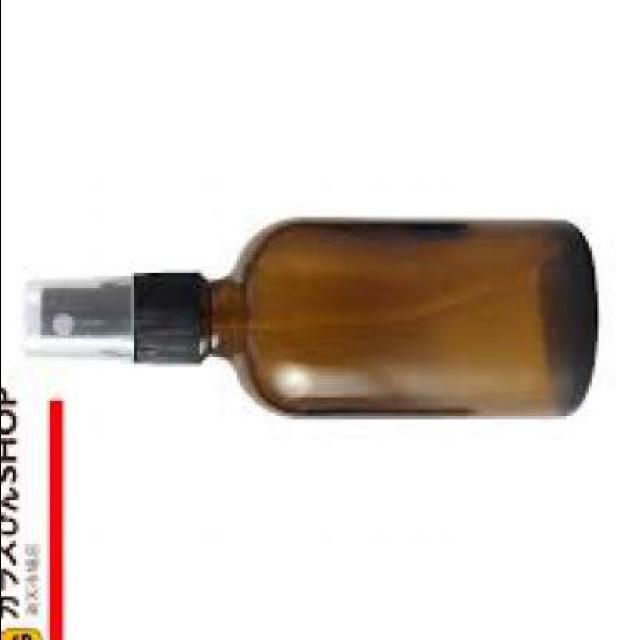kaca: (198, 222, 600, 423)
